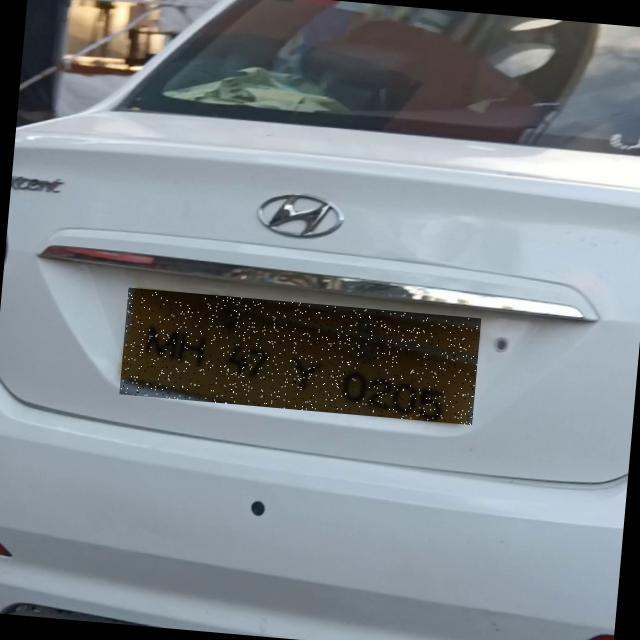Plate: (120, 289, 482, 426)
